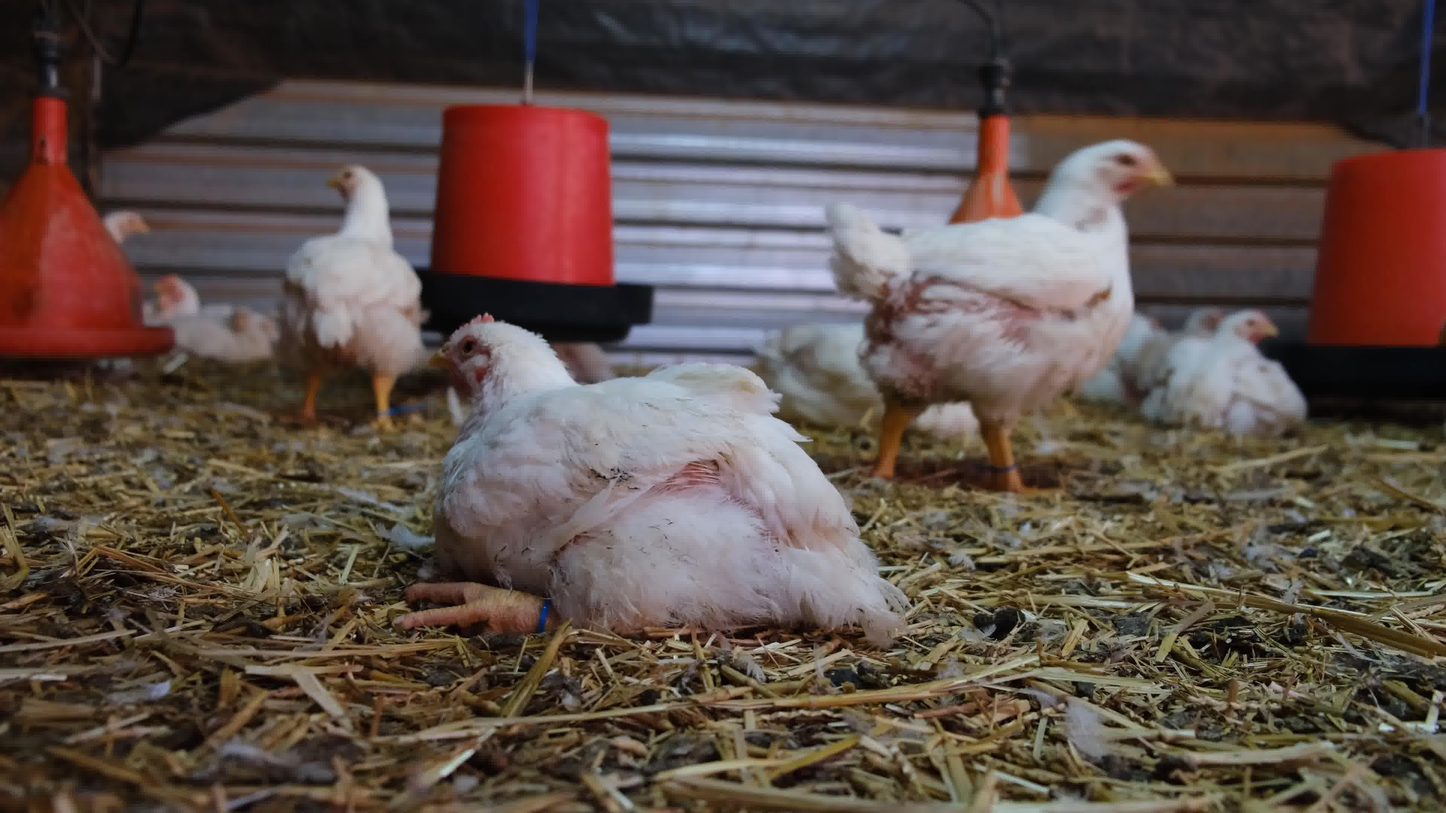AbNormal: (407, 299, 917, 687), (119, 237, 290, 386), (1169, 294, 1322, 457), (1149, 267, 1246, 437)
Normal: (791, 113, 1194, 514), (250, 136, 474, 410)
